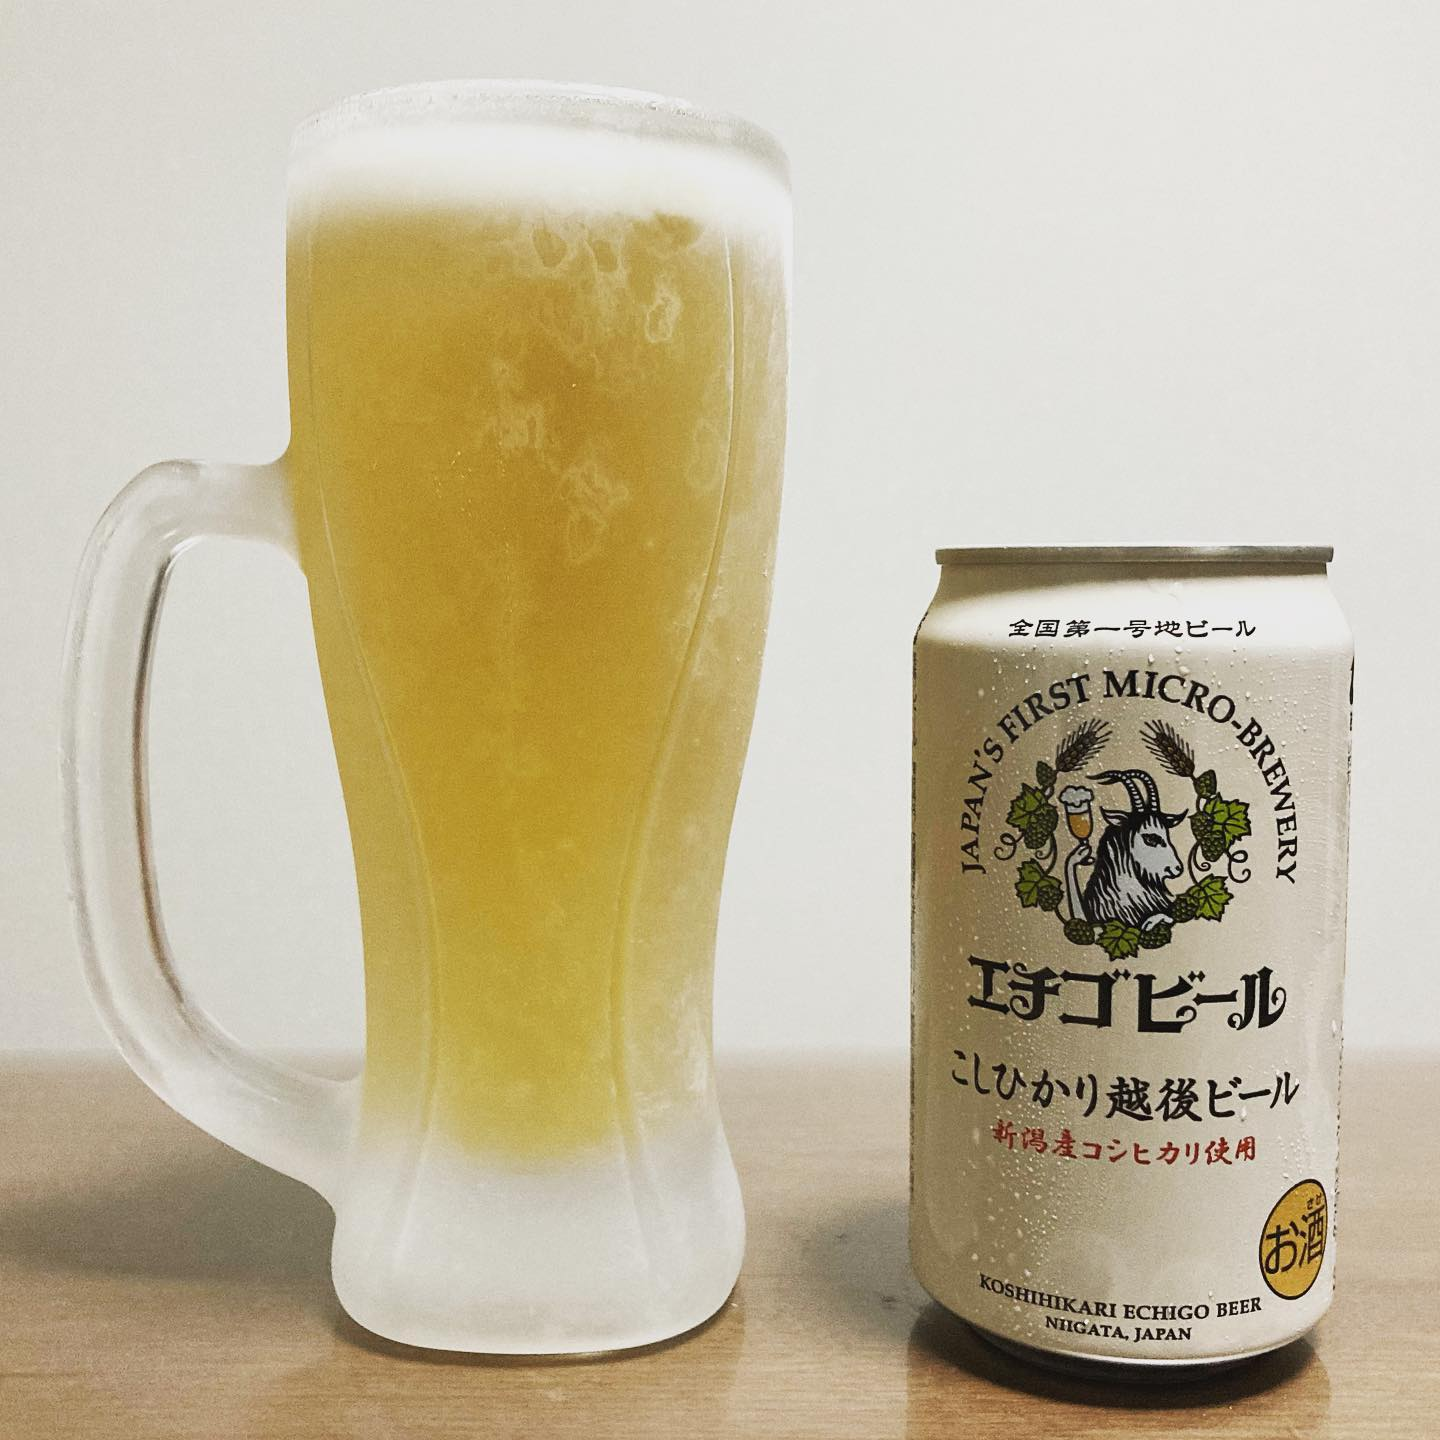alcohol: (276, 66, 800, 1369), (895, 533, 1362, 1399)
